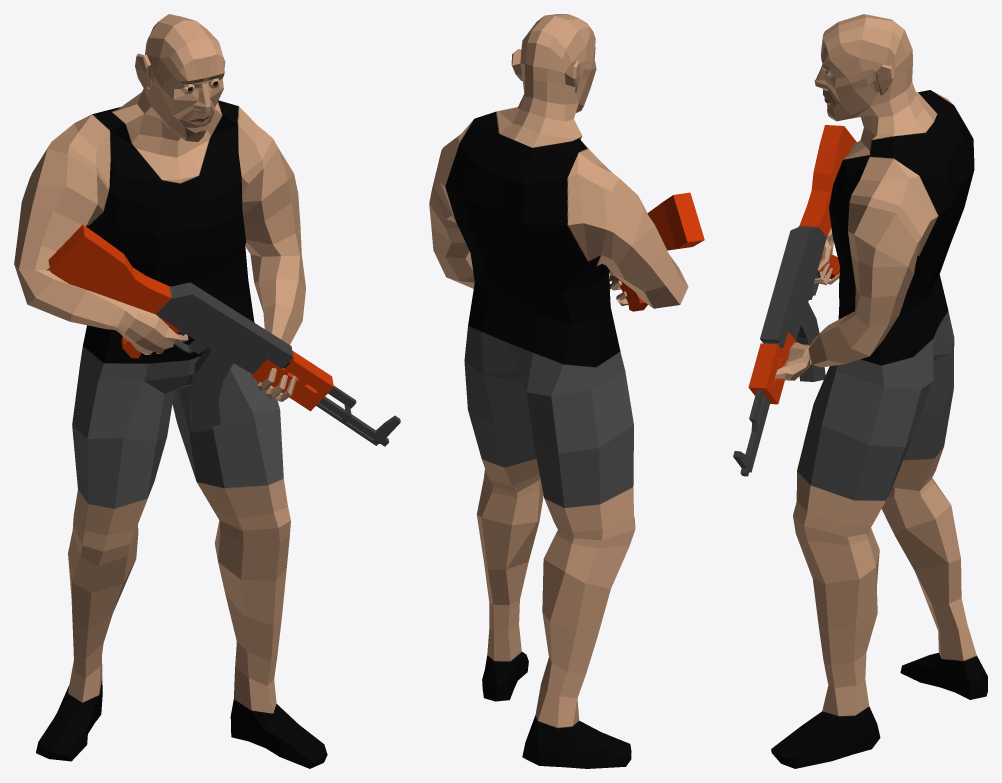
File: PlayerIdle(196).obj
The picture shows the model from 3 angles, left to right: view 1: azimuth 30°, elevation 25°; view 2: azimuth 150°, elevation 25°; view 3: azimuth 270°, elevation 25°; orthographic projection. The views are drawn at different scales.
Parts seen in each view (by area): view 1: Plane002, Object001; view 2: Plane002, Object001; view 3: Plane002, Object001.
Part boxes in pixels (left/top/right/bottom): Plane002: left=14, top=14, right=327, bottom=768; Object001: left=48, top=224, right=400, bottom=446; Plane002: left=429, top=14, right=688, bottom=768; Object001: left=609, top=192, right=704, bottom=311; Plane002: left=771, top=14, right=987, bottom=768; Object001: left=733, top=125, right=856, bottom=476.
Bounding box in the file's own units: 764 × 1799 × 592.
